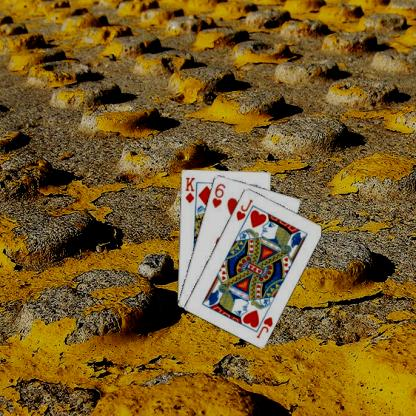6H: (209, 180, 226, 209)
JH: (234, 196, 254, 222), (254, 314, 274, 340)
KD: (182, 175, 196, 204)
